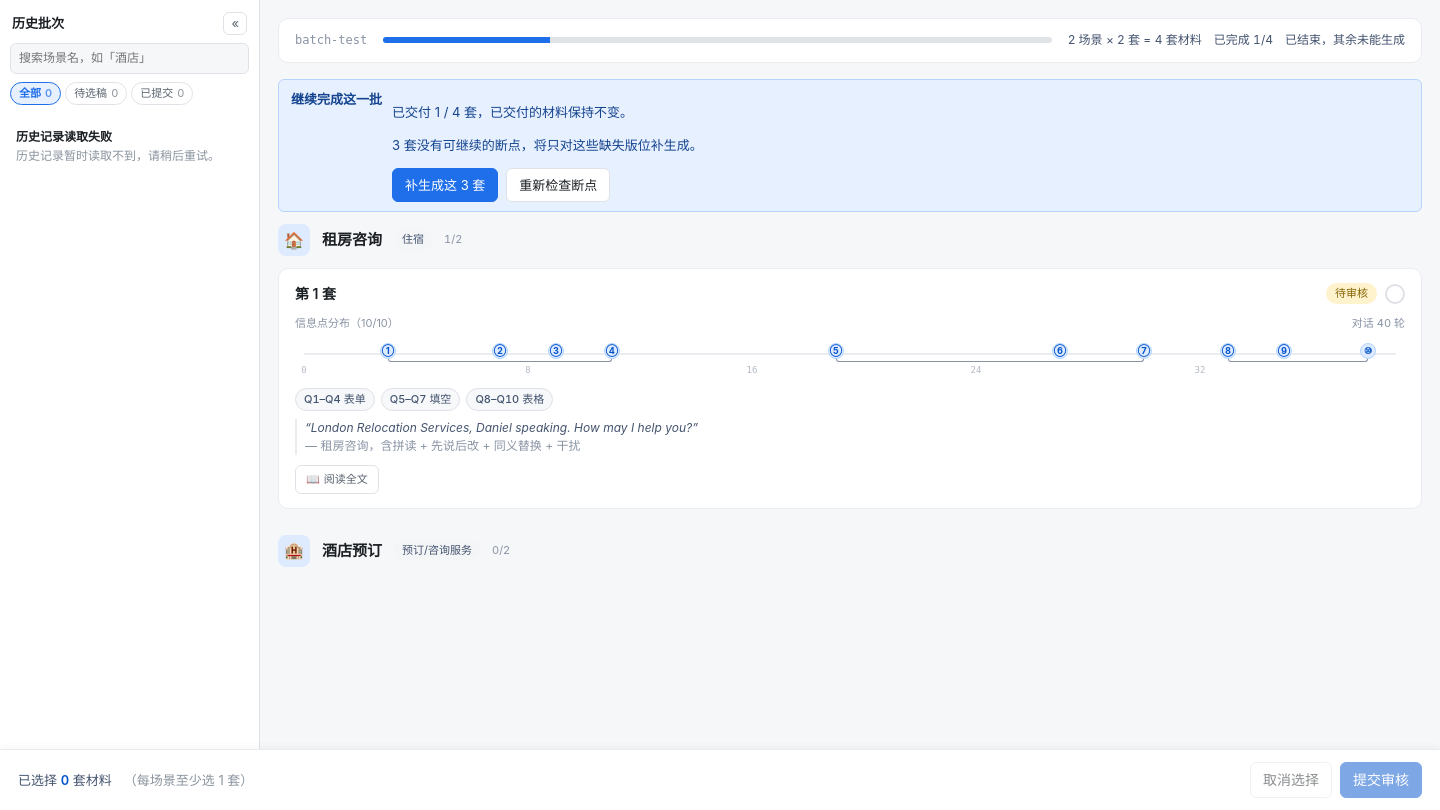
generate_sets 的收尾 › 补生成完成后轮询原批次并自动移除缺口告警
This screenshot has width=1440, height=810.
Click the button "补生成这 3 套": (445, 185) [392,168,498,202]
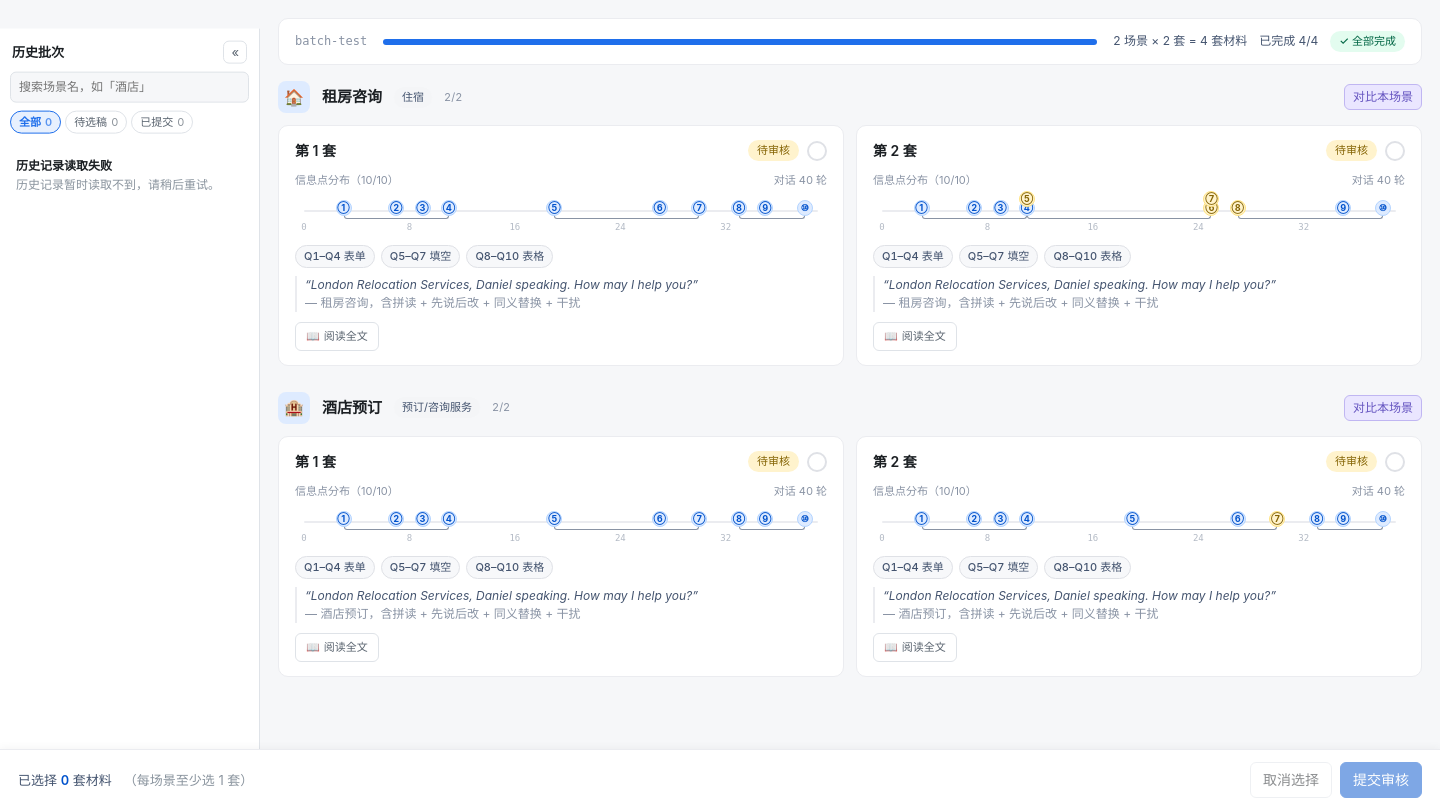
Expected: the text "补生成" is gone
Expected: the text "已完成 4/4" is shown, [1259,32,1318,51]
